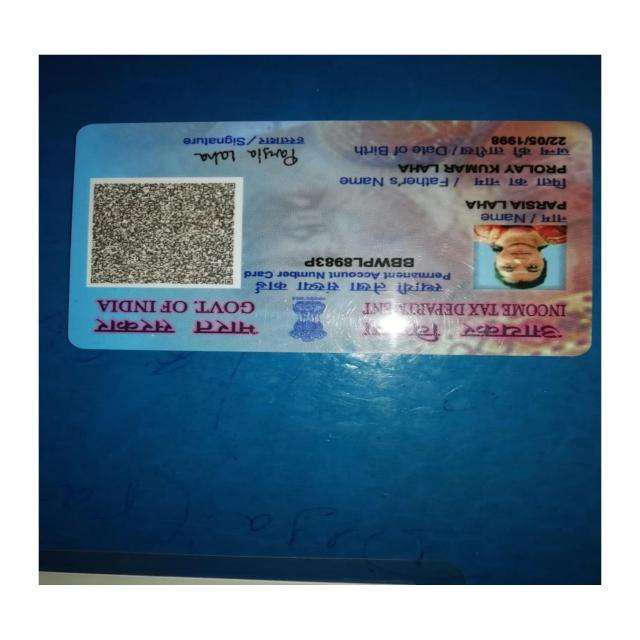pan_card: (74, 122, 587, 354)
